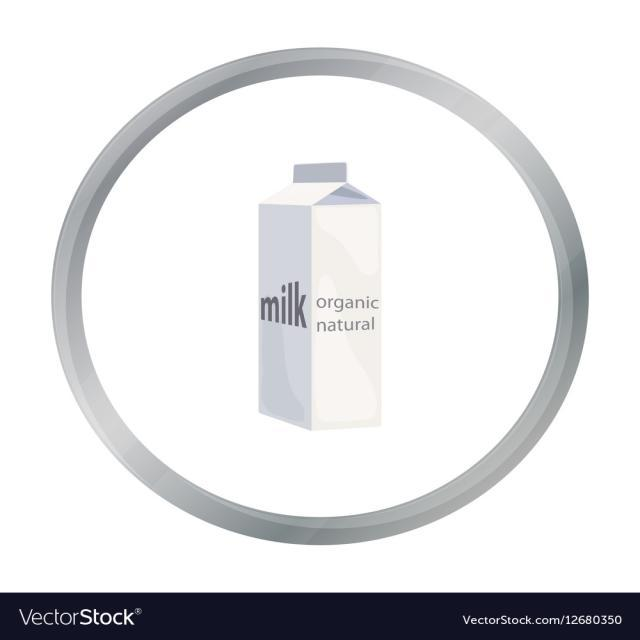Carton: (246, 144, 406, 450)
